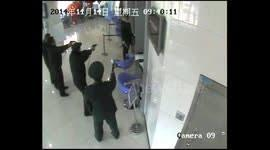weapon: (107, 60, 117, 72), (90, 42, 98, 50), (67, 38, 75, 44)
